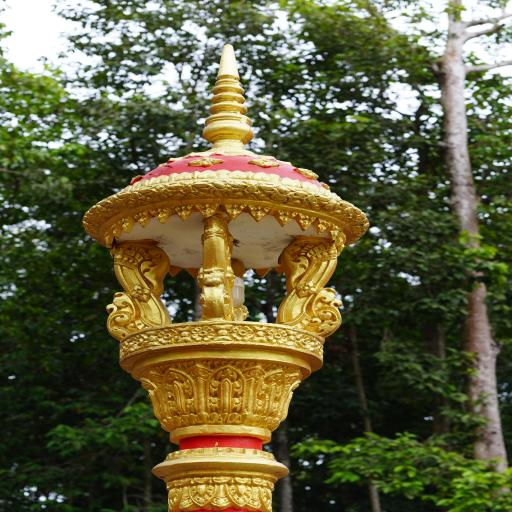ran: (78, 226, 186, 337), (179, 210, 267, 344), (264, 226, 365, 340)
